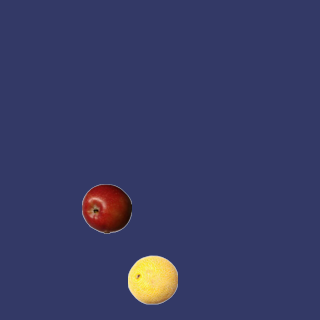Apple Braeburn: (81, 183, 131, 233)
Cantaloupe 1: (127, 254, 177, 304)
